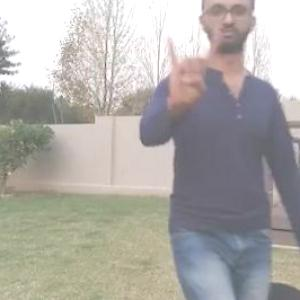takeoff-hand: (160, 30, 227, 110)
